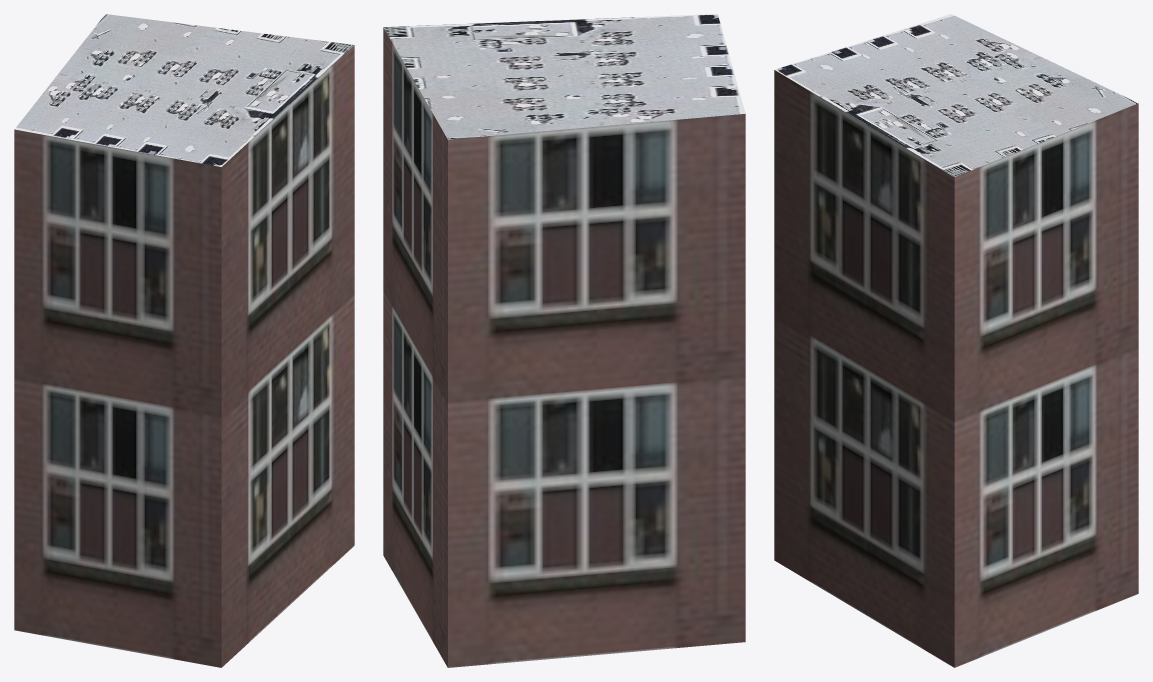
Rendered from ResTex__1595.fbx.
The picture shows the model from 3 angles, left to right: view 1: azimuth 30°, elevation 25°; view 2: azimuth 150°, elevation 25°; view 3: azimuth 270°, elevation 25°; orthographic projection. The views are drawn at different scales.
Parts seen in each view (by area): view 1: CityEngineMaterial_12_m, CityEngineMaterial_4_m; view 2: CityEngineMaterial_12_m, CityEngineMaterial_4_m; view 3: CityEngineMaterial_12_m, CityEngineMaterial_4_m.
Part boxes in pixels (box(x1,y1,x2,y2)): CityEngineMaterial_12_m: box(14, 45, 354, 667); CityEngineMaterial_4_m: box(14, 14, 353, 166); CityEngineMaterial_12_m: box(383, 27, 745, 667); CityEngineMaterial_4_m: box(383, 14, 745, 139); CityEngineMaterial_12_m: box(774, 70, 1138, 667); CityEngineMaterial_4_m: box(774, 14, 1138, 177).
Size of the model in its own units: 4.29 by 6 by 4.04.
Materials: 2 (2 with a texture image).
